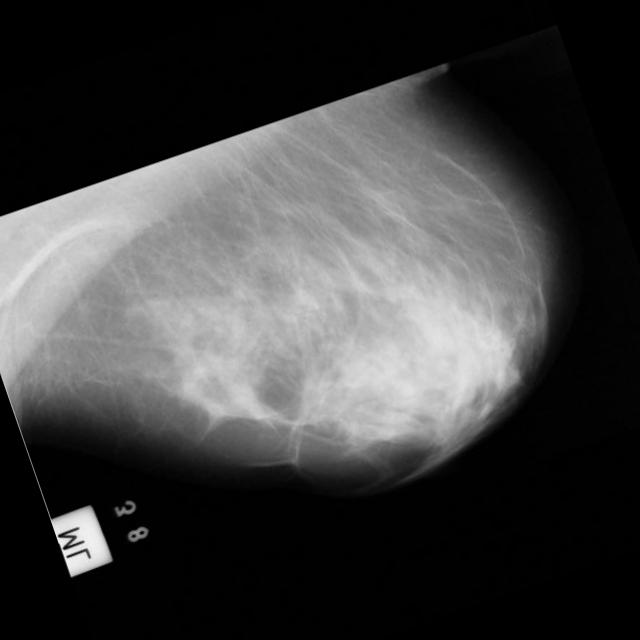SPIC: (208, 292, 418, 502)
